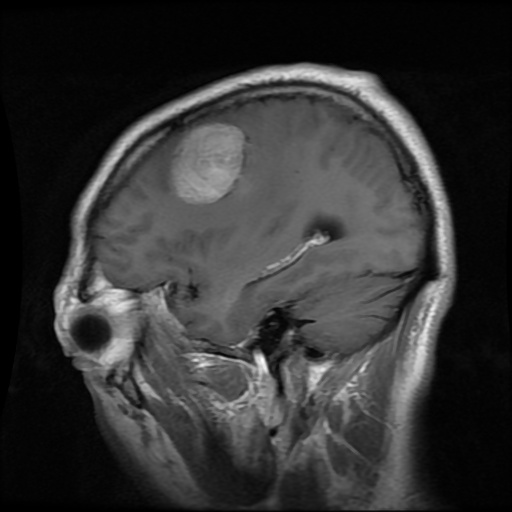meningioma: (170, 122, 244, 203)
